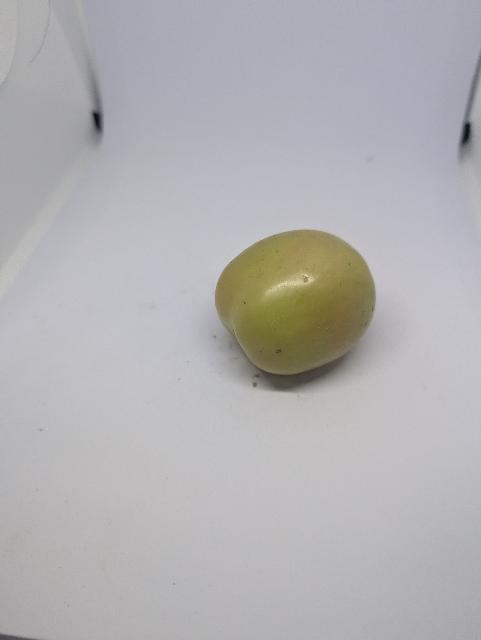breaker: (212, 227, 382, 380)
